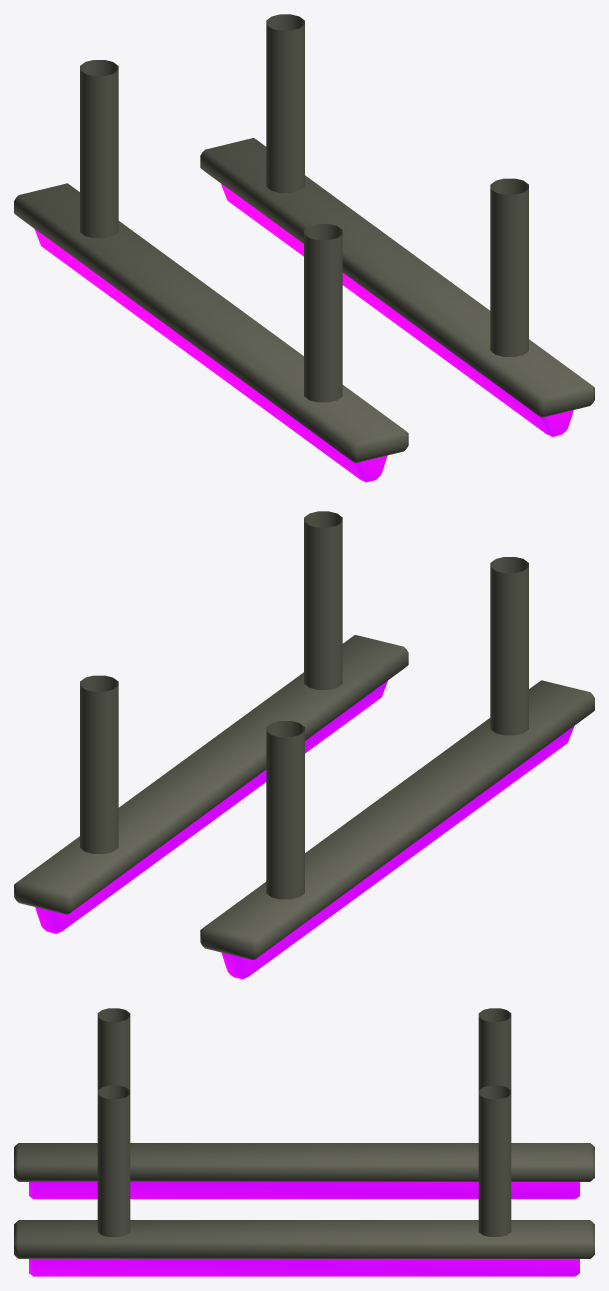
The model's file is NeutralLight.fbx.
3 views of the same model, one above another, from view 1: azimuth 30°, elevation 25°; view 2: azimuth 150°, elevation 25°; view 3: azimuth 270°, elevation 25° (orthographic). The views are drawn at different scales.
Visible parts, largest first — view 1: NeutralLight; view 2: NeutralLight; view 3: NeutralLight.
Part boxes in pixels (x1,y1,x2,y2): NeutralLight: [14, 14, 594, 482]; NeutralLight: [14, 511, 594, 979]; NeutralLight: [14, 1008, 594, 1276].
Bounding box in the file's own units: 263 × 220 × 636.
